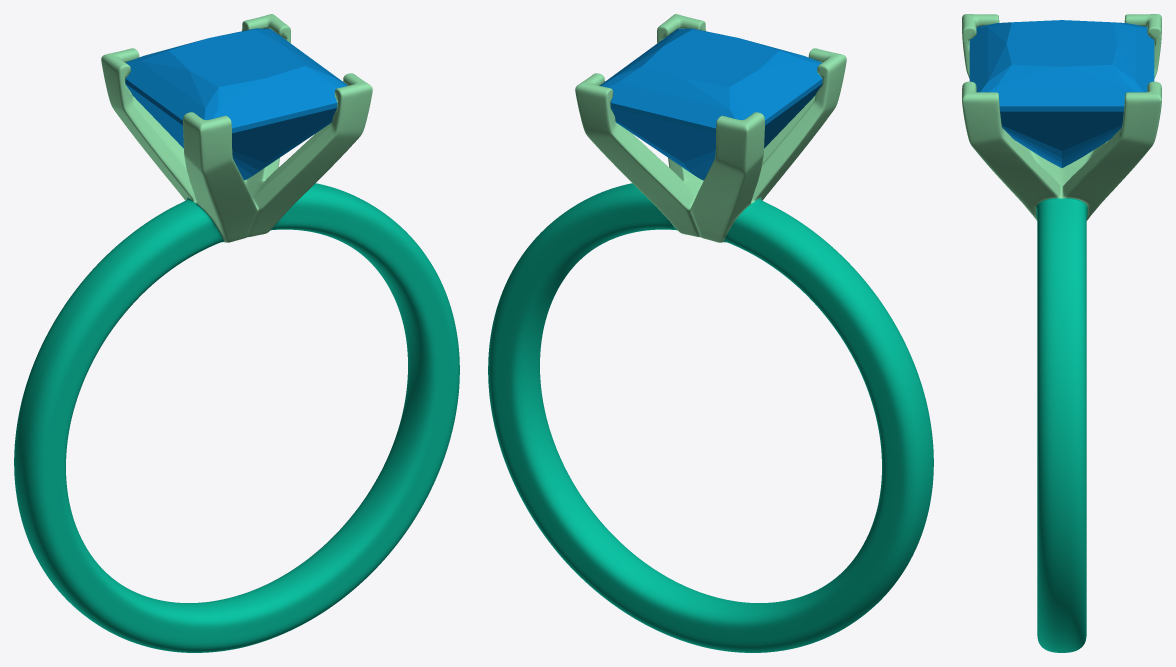
The model's file is BE101_PR_200ct_RENDER.glb.
3 renders of one model, left to right at view 1: azimuth 30°, elevation 25°; view 2: azimuth 150°, elevation 25°; view 3: azimuth 270°, elevation 25°, orthographic.
Parts seen in each view (by area): view 1: Metal 01, CS_Diamond_Princess, Metal 02; view 2: Metal 01, CS_Diamond_Princess, Metal 02; view 3: Metal 01, CS_Diamond_Princess, Metal 02.
Boxes of the visible parts, <box> form: Metal 01: <box>14,183,459,652</box>; CS_Diamond_Princess: <box>125,28,347,180</box>; Metal 02: <box>101,14,372,242</box>; Metal 01: <box>488,183,933,652</box>; CS_Diamond_Princess: <box>600,28,822,180</box>; Metal 02: <box>575,14,846,242</box>; Metal 01: <box>1036,198,1087,652</box>; CS_Diamond_Princess: <box>969,20,1154,167</box>; Metal 02: <box>962,14,1161,220</box>.
Bounding box in the file's own units: 20.38 × 26.24 × 8.12.
